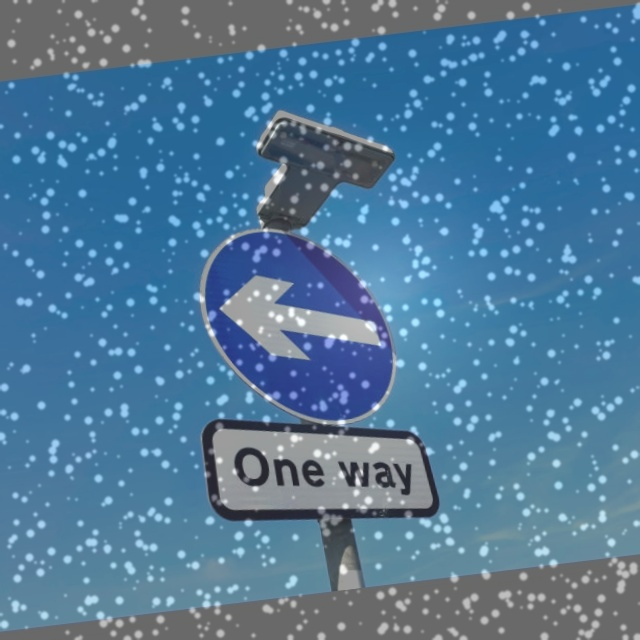Compulsory_Turn_Left: (195, 211, 410, 438)
